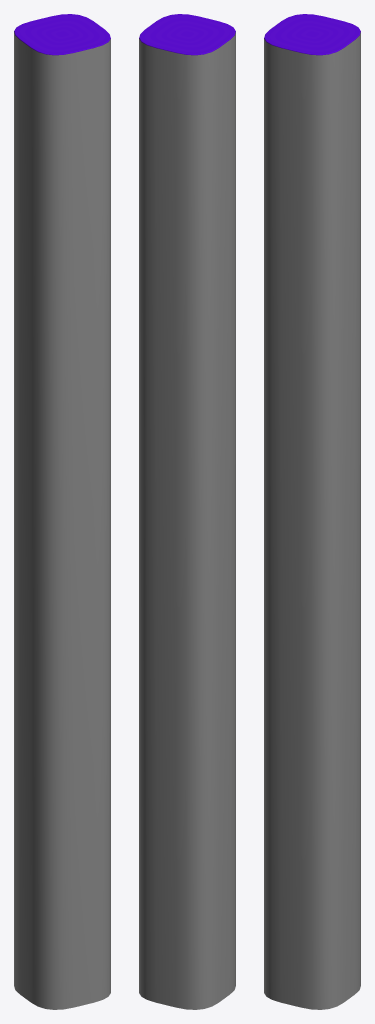
Rendered from new_way 1.FBX.
The picture shows the model from 3 angles, left to right: view 1: azimuth 30°, elevation 25°; view 2: azimuth 150°, elevation 25°; view 3: azimuth 330°, elevation 25°; orthographic projection.
Parts seen in each view (by area): view 1: Box001; view 2: Box001; view 3: Box001.
Boxes of the visible parts, x1=… form: Box001: x1=14, y1=14, x2=110, y2=1009; Box001: x1=139, y1=14, x2=235, y2=1009; Box001: x1=264, y1=14, x2=360, y2=1009.
Bounding box in the file's own units: 40.86 × 40.86 × 504.
